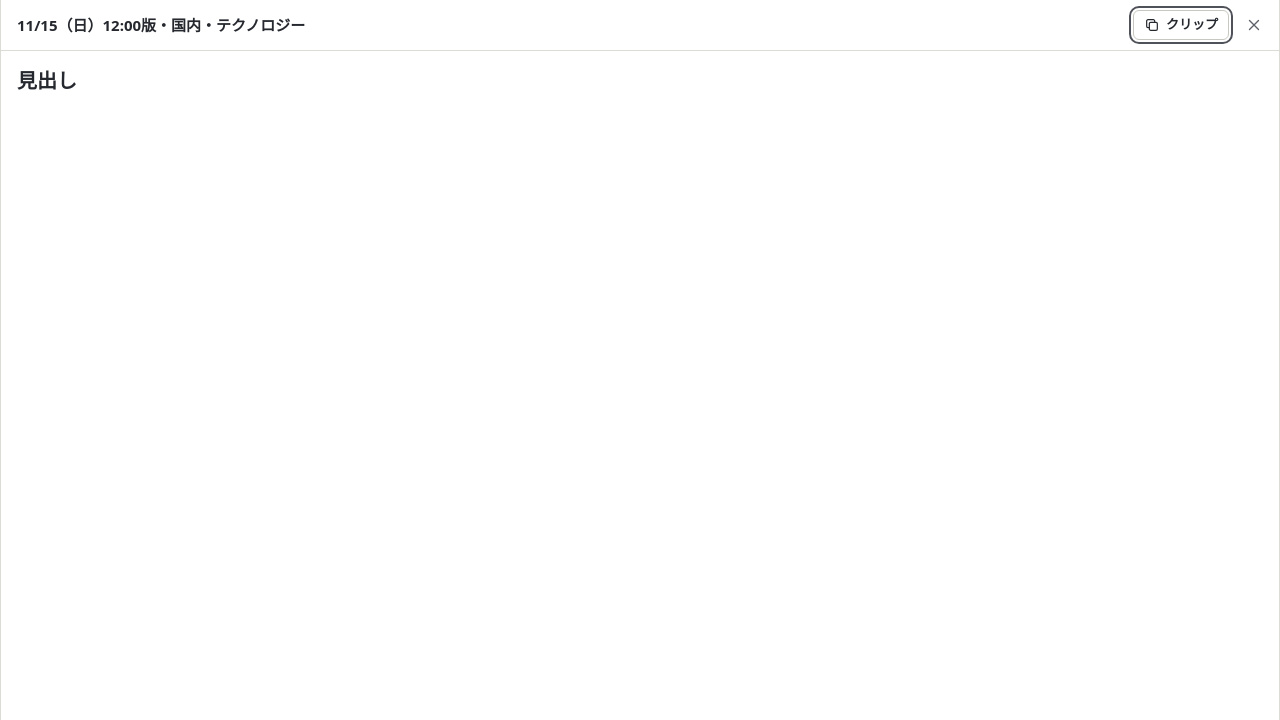
it: Esc（設計: 段階2の 2.） › パネルの上のクリップの窓で Esc を押すと窓だけ閉じ、フォーカスはクリップのボタンへ戻る
Click the button with test id "topic-clip" at (1181, 25), box x1=1133 y1=10 x2=1229 y2=40
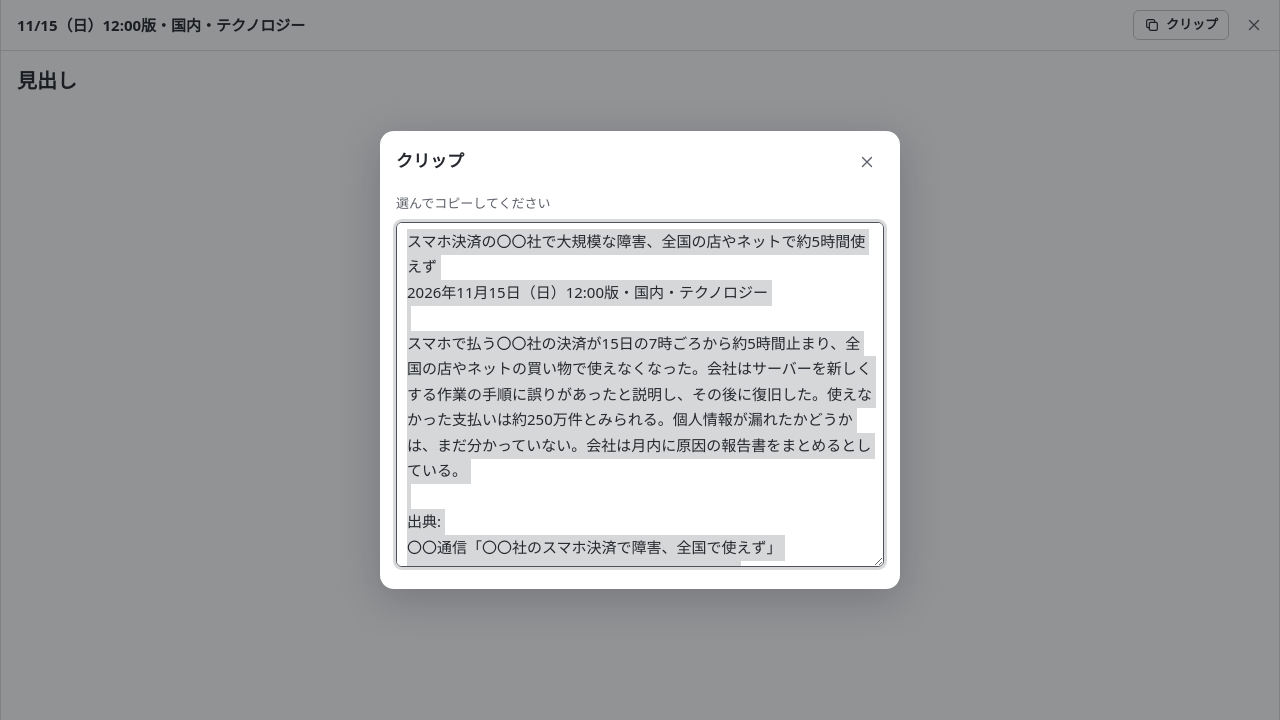
Press Escape in the text box, box x1=396 y1=222 x2=884 y2=567
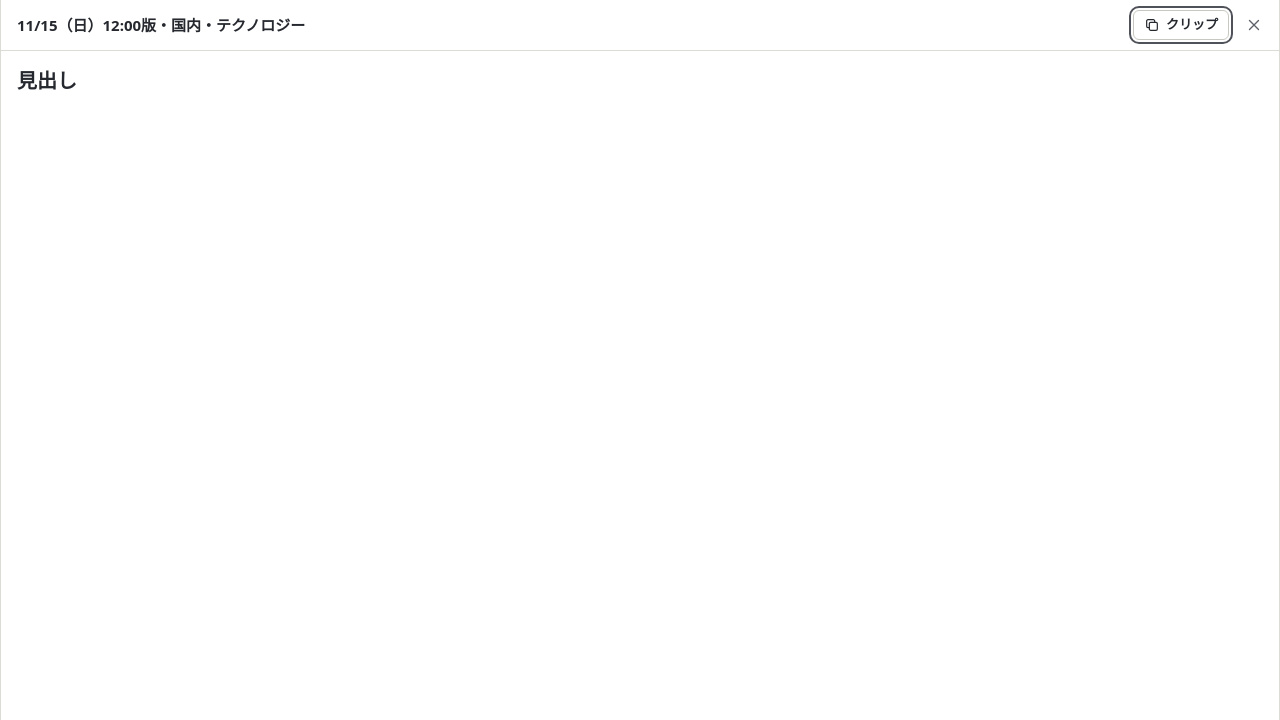
Expected: the dialog with test id "clip-dialog" is gone
